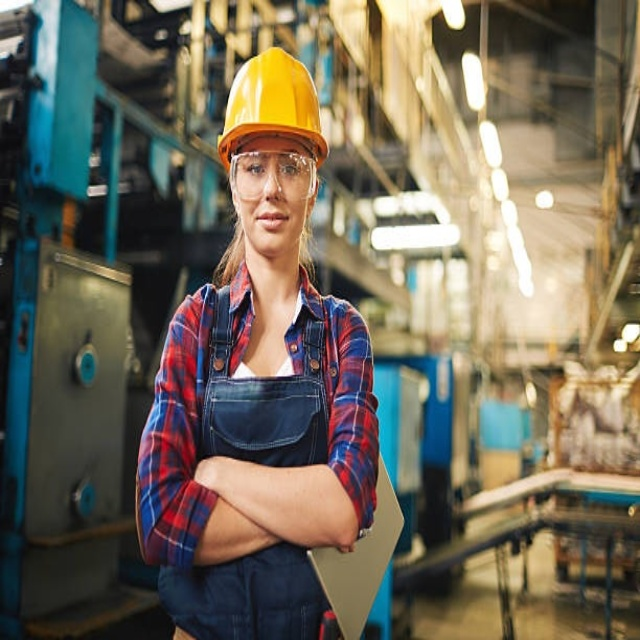Gafas: (230, 148, 318, 203)
Sin_mascara: (248, 205, 295, 251)
